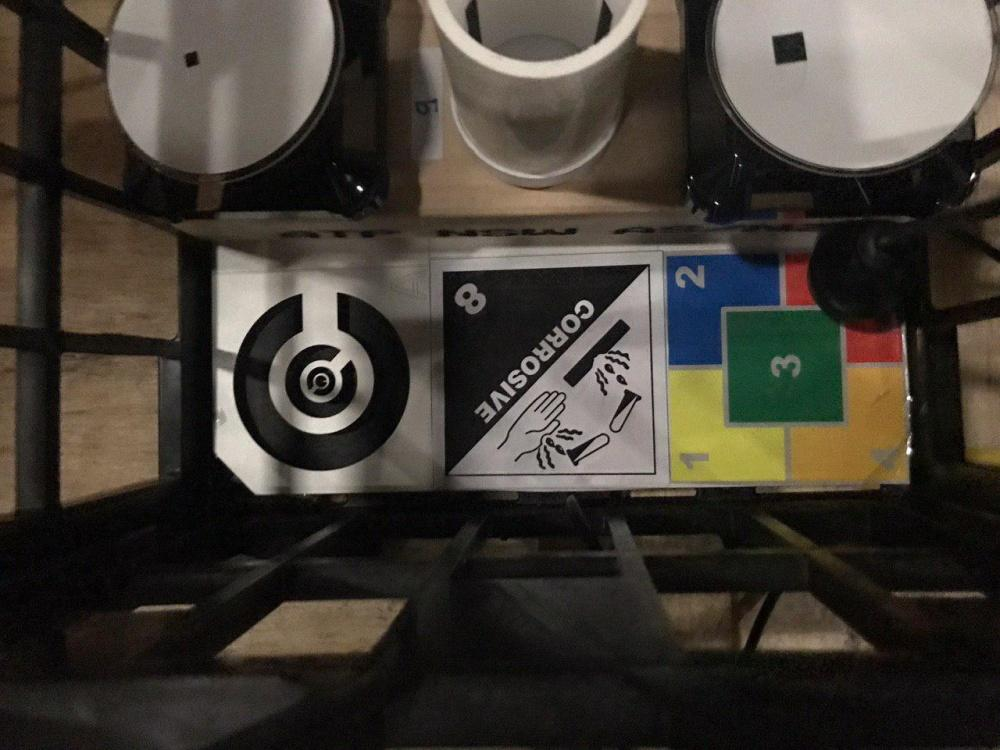corrosive: (443, 263, 652, 478)
